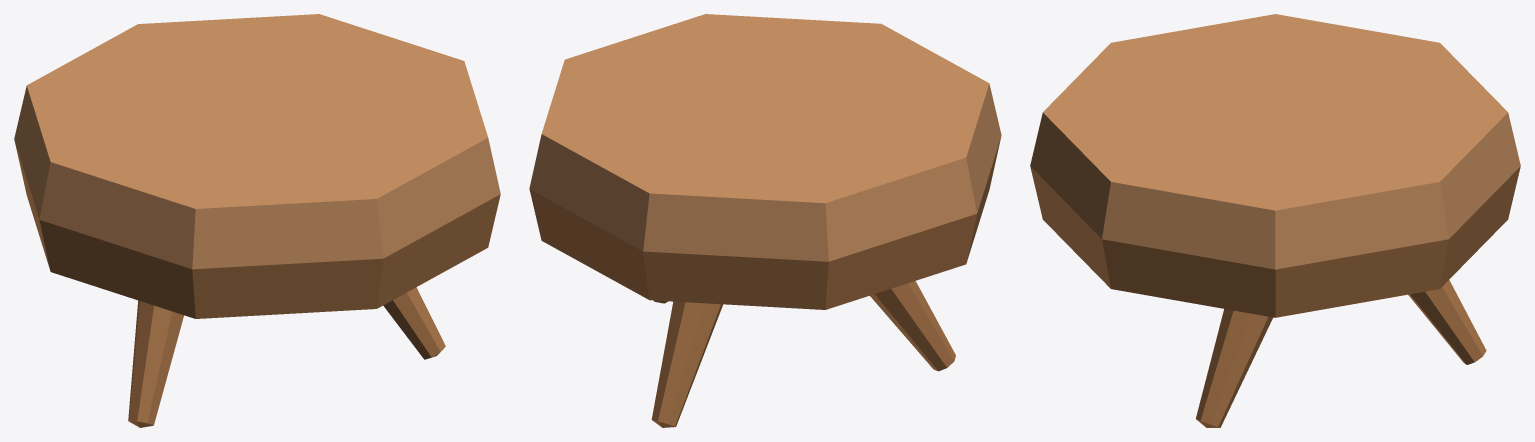
File: Banco Aidan.fbx
3 views of the same model, side by side, from view 1: azimuth 30°, elevation 25°; view 2: azimuth 150°, elevation 25°; view 3: azimuth 270°, elevation 25° (orthographic). The views are drawn at different scales.
Parts seen in each view (by area): view 1: Banquinho Arvid; view 2: Banquinho Arvid; view 3: Banquinho Arvid.
Boxes of the visible parts, x1,y1,x2,y2 form: Banquinho Arvid: (14, 14, 500, 427); Banquinho Arvid: (529, 14, 1001, 427); Banquinho Arvid: (1030, 14, 1520, 427).
Size of the model in its own units: 76.47 by 42.93 by 76.47.
1 material, 1 textured.
